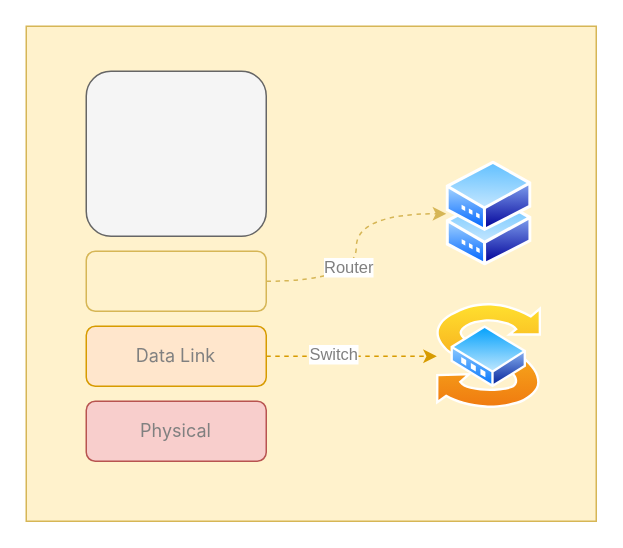
Image size: 623x548. Some labels were removed from this diagram. Each missing label, with the centre of its shape:
"Host Layers" belongs at pixel 175 153.
"Network" belongs at pixel 175 280.
